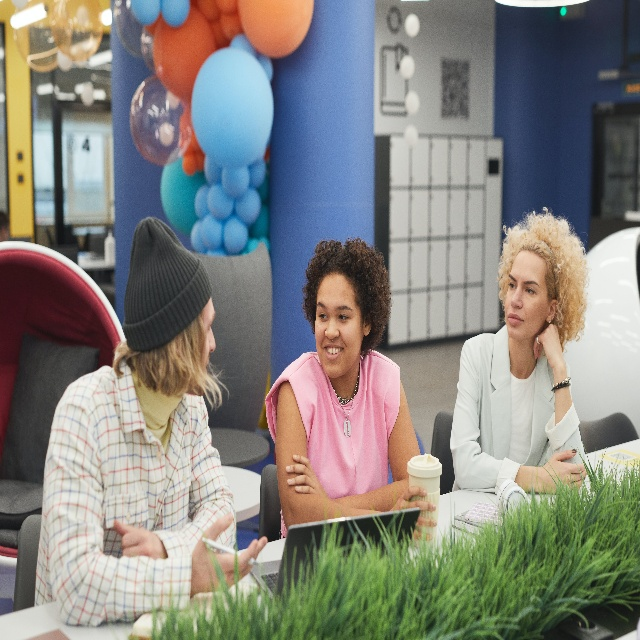Sin_guantes: (190, 512, 268, 598), (391, 486, 437, 541), (113, 519, 167, 560), (542, 448, 587, 494), (286, 452, 327, 499), (533, 323, 564, 369)
